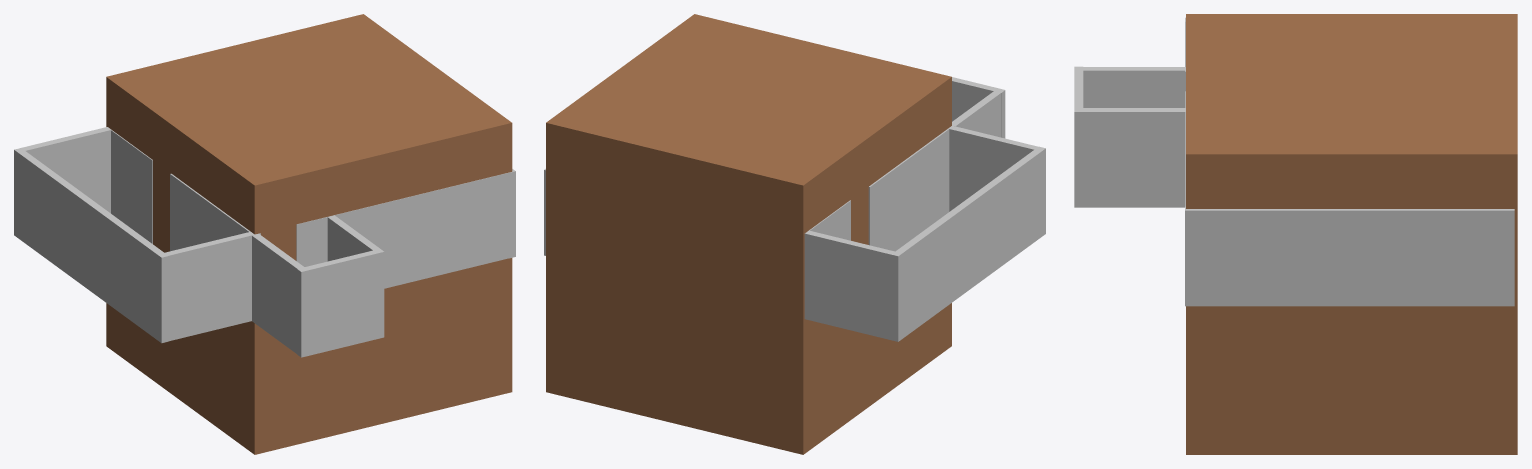
File: room.gltf
The picture shows the model from 3 angles, left to right: view 1: azimuth 30°, elevation 25°; view 2: azimuth 150°, elevation 25°; view 3: azimuth 270°, elevation 25°; orthographic projection. The views are drawn at different scales.
Visible parts, largest first — view 1: boundingbox, Cube.003, Cube.007, Cube.008, Cube.002, Cube.009, Cube.001, Cube.006, Cube.005, Cube.010, Cube.004; view 2: boundingbox, Cube.003, Cube.001, Cube.005, Cube.002, Cube.009, Cube.008, Cube.006; view 3: boundingbox, Cube.004, Cube.010, Cube.009, Cube.008.
Part boxes in pixels (x1,y1,x2,y2): boundingbox: (106, 14, 512, 454); Cube.003: (14, 148, 168, 343); Cube.007: (296, 170, 513, 288); Cube.008: (297, 249, 384, 357); Cube.002: (157, 231, 254, 341); Cube.009: (252, 234, 304, 353); Cube.001: (19, 127, 111, 213); Cube.006: (108, 127, 152, 243); Cube.005: (170, 173, 260, 251); Cube.010: (327, 215, 382, 261); Cube.004: (508, 169, 515, 258); boundingbox: (546, 14, 951, 454); Cube.003: (893, 146, 1045, 341); Cube.001: (804, 230, 896, 340); Cube.005: (868, 128, 949, 251); Cube.002: (948, 125, 1044, 211); Cube.009: (952, 89, 1002, 137); Cube.008: (952, 77, 1005, 138); Cube.006: (809, 200, 850, 240); boundingbox: (1186, 14, 1517, 454); Cube.004: (1185, 206, 1514, 306); Cube.010: (1078, 108, 1185, 207); Cube.009: (1078, 67, 1185, 107); Cube.008: (1074, 66, 1083, 207).
Bounding box in the file's own units: 17.37 × 12.62 × 16.87.
